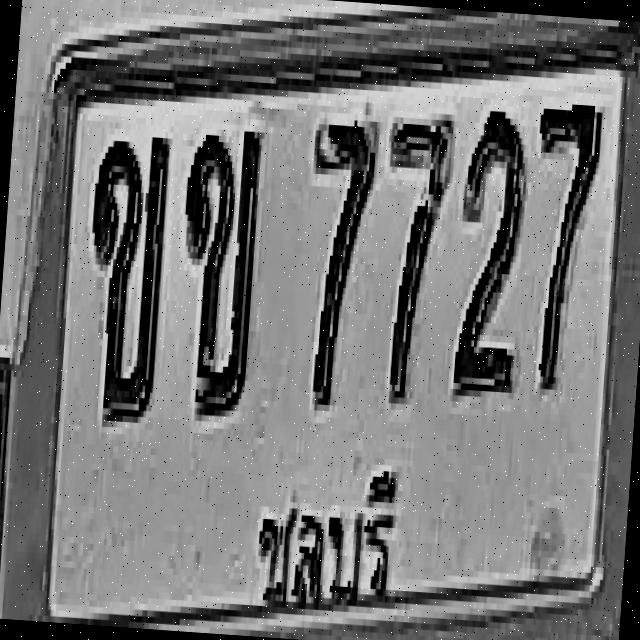11KhorKhai: (77, 128, 172, 424), (171, 121, 265, 417)
2: (450, 102, 530, 398)
7: (294, 114, 378, 410), (521, 98, 602, 394), (372, 110, 452, 406)
Chonburi: (244, 444, 409, 626)
